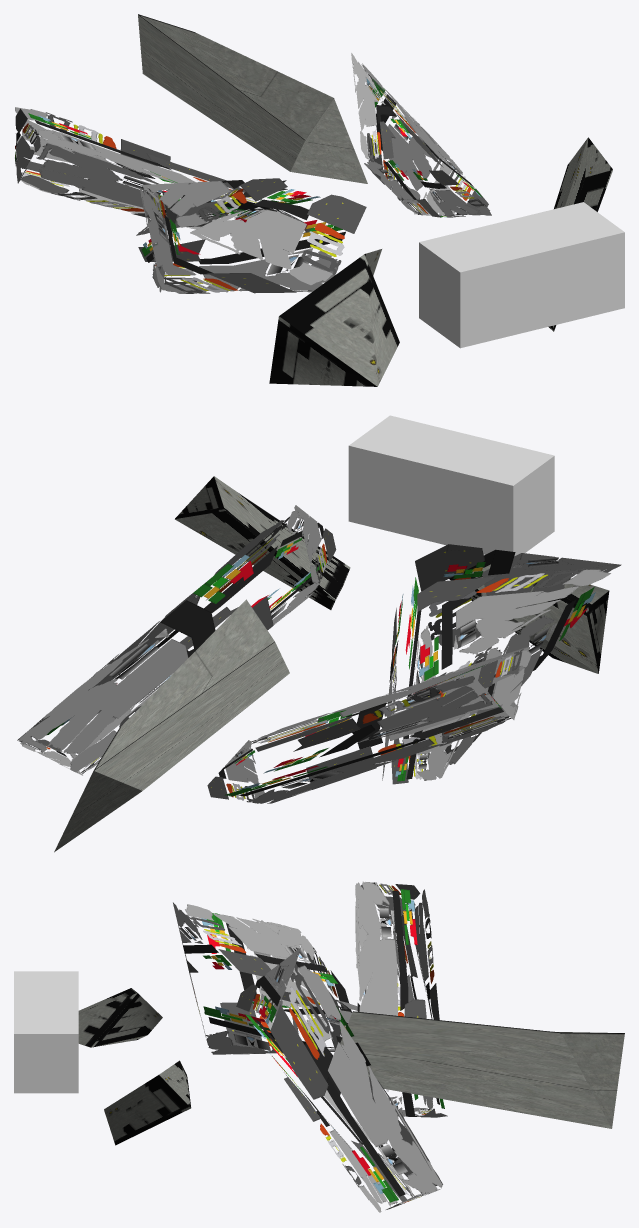
The model's file is Shrapnel_Box.FBX.
The picture shows the model from 3 angles, top to bottom: view 1: azimuth 30°, elevation 25°; view 2: azimuth 150°, elevation 25°; view 3: azimuth 270°, elevation 25°; orthographic projection. The views are drawn at different scales.
Visible parts, largest first — view 1: Box001, Shrapnel_004, Shrapnel_01, Shrapnel_005, Shrapnel_002, Shrapnel_003, Shrapnel_006; view 2: Box001, Shrapnel_004, Shrapnel_003, Shrapnel_002, Shrapnel_01, Shrapnel_006, Shrapnel_005; view 3: Shrapnel_01, Shrapnel_003, Shrapnel_004, Shrapnel_002, Box001, Shrapnel_006, Shrapnel_005.
Part boxes in pixels (x1,y1,x2,y2): Box001: (419,202,624,348); Shrapnel_004: (136,178,366,293); Shrapnel_01: (138,14,367,183); Shrapnel_005: (269,249,399,386); Shrapnel_002: (15,107,313,233); Shrapnel_003: (351,53,491,217); Shrapnel_006: (548,137,612,331); Box001: (348,415,554,556); Shrapnel_004: (382,544,621,784); Shrapnel_003: (17,505,336,775); Shrapnel_002: (207,646,531,803); Shrapnel_01: (54,599,289,852); Shrapnel_006: (175,476,350,609); Shrapnel_005: (449,564,609,673); Shrapnel_01: (340,1011,624,1128); Shrapnel_003: (236,948,442,1212); Shrapnel_004: (173,902,357,1054); Shrapnel_002: (355,881,447,1117); Box001: (14,971,78,1093); Shrapnel_006: (104,1060,191,1145); Shrapnel_005: (78,988,162,1047).
Bounding box in the file's own units: 15.53 × 7.94 × 22.34.
4 materials, 4 textured.
